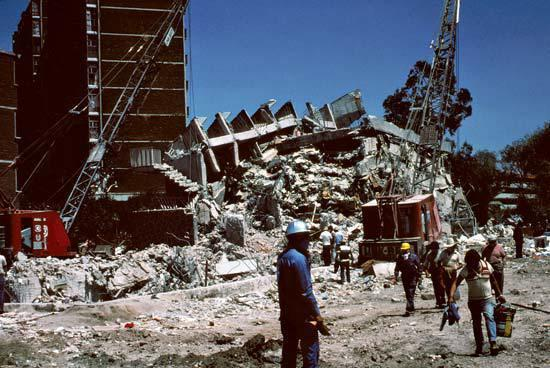destroyed: (170, 59, 495, 278)
